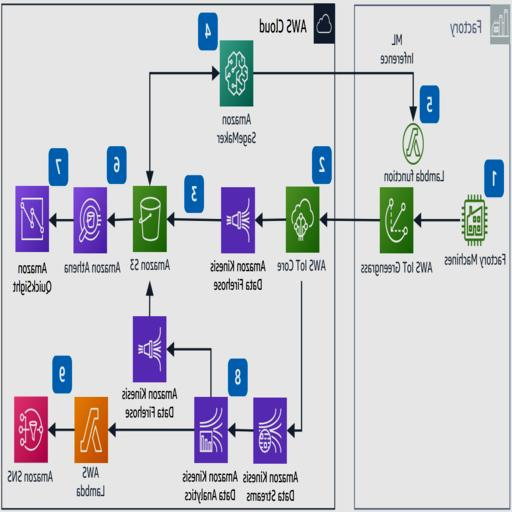actor: (470, 197, 498, 243)
api_gateway: (222, 72, 438, 76), (300, 283, 304, 429), (106, 428, 196, 432), (148, 97, 151, 205), (142, 72, 223, 76), (173, 218, 224, 222), (172, 348, 210, 353), (342, 218, 382, 222), (148, 276, 151, 328), (433, 218, 470, 222), (210, 335, 212, 407), (412, 72, 415, 118), (256, 218, 289, 222), (104, 218, 136, 222), (224, 428, 256, 432), (46, 428, 78, 432), (46, 218, 76, 222), (286, 428, 300, 432)
data_flow: (18, 407, 46, 453)
database_storage: (383, 197, 411, 243), (222, 51, 250, 97), (197, 407, 225, 453), (77, 407, 105, 453), (398, 124, 423, 162)
network_security: (289, 197, 317, 243), (224, 197, 252, 243), (136, 197, 164, 243), (76, 197, 104, 243), (18, 197, 46, 243), (256, 407, 284, 453), (136, 328, 164, 374)
trust_boundary: (2, 2, 334, 510), (354, 2, 510, 510)
